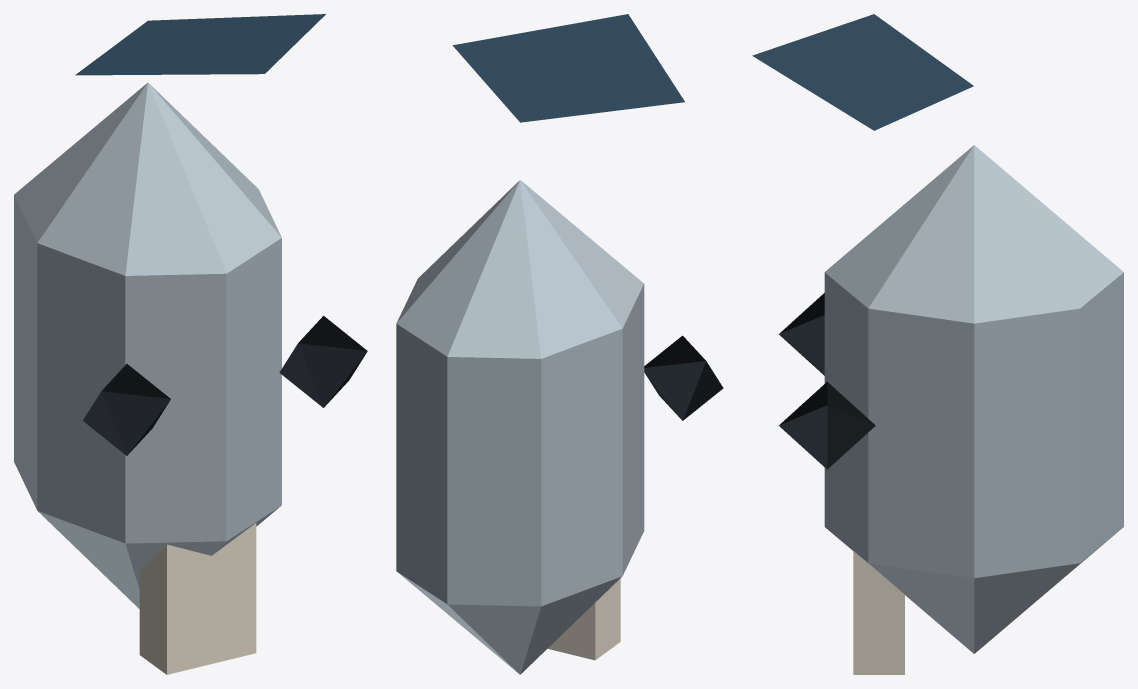
The model's file is fish_sardine.glb.
3 renders of one model, left to right at view 1: azimuth 30°, elevation 25°; view 2: azimuth 150°, elevation 25°; view 3: azimuth 270°, elevation 25°, orthographic. The views are drawn at different scales.
Parts seen in each view (by area): view 1: fish_sardine; view 2: fish_sardine; view 3: fish_sardine.
Boxes of the visible parts, <box> form: fish_sardine: <box>14,14,367,674</box>; fish_sardine: <box>396,14,723,674</box>; fish_sardine: <box>752,14,1123,674</box>.
Size of the model in its own units: 0.4746 by 1 by 0.5633.
